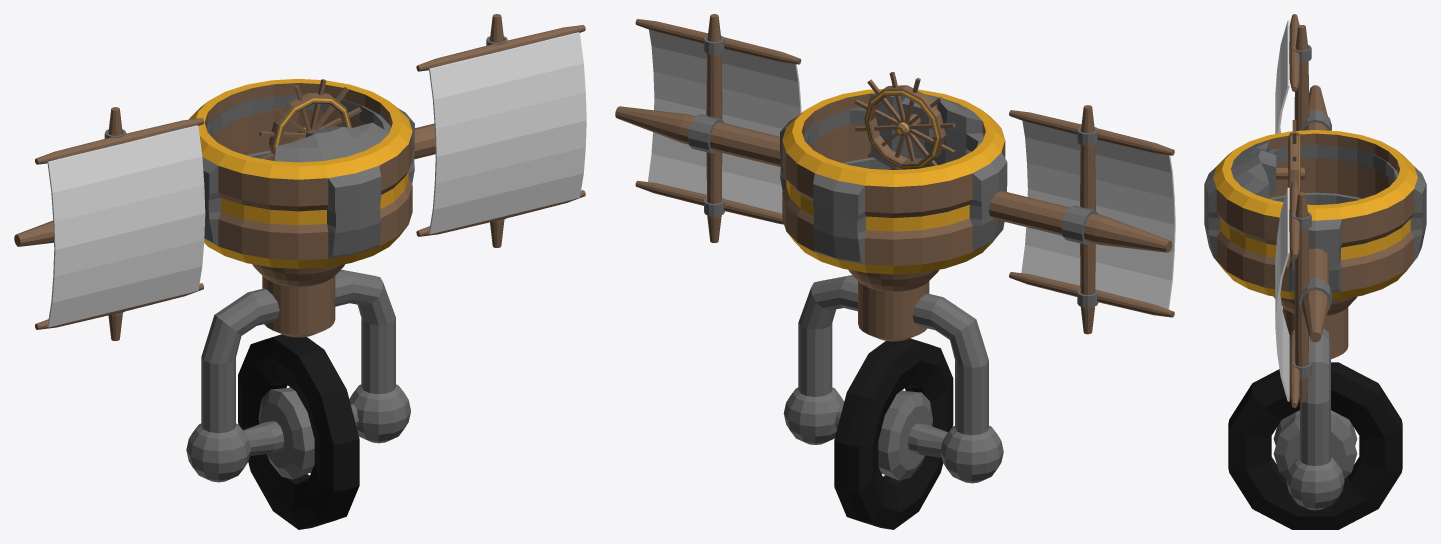
File: Old Wheeley.fbx
The picture shows the model from 3 angles, left to right: view 1: azimuth 30°, elevation 25°; view 2: azimuth 150°, elevation 25°; view 3: azimuth 270°, elevation 25°; orthographic projection. The views are drawn at different scales.
Parts seen in each view (by area): view 1: Carrier, Sail_Left, Sail_Right, WheelFrame, Wheel, SteeringWheel, SailBrace_RightTop, SailBrace_LeftTop, SailBeam_RightHorizontal, SailBeam_RightVertical, SailBeam_LeftVertical, SailBeam_LeftHorizontal; view 2: Carrier, WheelFrame, Sail_Right, Sail_Left, Wheel, SailBeam_RightHorizontal, SteeringWheel, SailBeam_LeftHorizontal, SailBeam_RightVertical, SailBeam_LeftVertical, SailBrace_LeftTop, SailBrace_RightTop (+2 smaller); view 3: Carrier, Wheel, WheelFrame, SailBeam_LeftVertical, Sail_Left, SailBeam_LeftHorizontal, Sail_Right, SailBeam_RightVertical, SteeringWheel, SailBrace_RightTop, SailBrace_LeftTop, SailBeam_RightHorizontal (+1 smaller).
Part boxes in pixels (left/top/right/bottom): Carrier: left=189, top=78, right=414, bottom=337; Sail_Left: left=429, top=32, right=586, bottom=234; Sail_Right: left=47, top=125, right=205, bottom=327; WheelFrame: left=186, top=269, right=410, bottom=482; Wheel: left=238, top=334, right=359, bottom=529; SteeringWheel: left=259, top=79, right=361, bottom=160; SailBrace_RightTop: left=35, top=118, right=204, bottom=164; SailBrace_LeftTop: left=416, top=25, right=585, bottom=71; SailBeam_RightHorizontal: left=14, top=220, right=53, bottom=246; SailBeam_RightVertical: left=108, top=107, right=122, bottom=340; SailBeam_LeftVertical: left=490, top=14, right=504, bottom=247; SailBeam_LeftHorizontal: left=414, top=123, right=435, bottom=159; Carrier: left=780, top=89, right=1007, bottom=341; WheelFrame: left=783, top=275, right=1003, bottom=483; Sail_Right: left=1021, top=121, right=1175, bottom=309; Sail_Left: left=648, top=29, right=801, bottom=213; Wheel: left=834, top=338, right=953, bottom=529; SailBeam_RightHorizontal: left=988, top=190, right=1172, bottom=252; SteeringWheel: left=854, top=72, right=955, bottom=169; SailBeam_LeftHorizontal: left=615, top=106, right=780, bottom=166; SailBeam_RightVertical: left=1080, top=105, right=1095, bottom=334; SailBeam_LeftVertical: left=706, top=14, right=722, bottom=243; SailBrace_LeftTop: left=635, top=19, right=801, bottom=64; SailBrace_RightTop: left=1009, top=110, right=1174, bottom=155; Carrier: left=1204, top=130, right=1426, bottom=359; Wheel: left=1228, top=362, right=1402, bottom=529; WheelFrame: left=1273, top=328, right=1357, bottom=510; SailBeam_LeftVertical: left=1294, top=192, right=1309, bottom=402; Sail_Left: left=1275, top=187, right=1289, bottom=401; SailBeam_LeftHorizontal: left=1299, top=248, right=1331, bottom=342; Sail_Right: left=1275, top=20, right=1289, bottom=133; SailBeam_RightVertical: left=1294, top=25, right=1309, bottom=130; SteeringWheel: left=1276, top=120, right=1304, bottom=192; SailBrace_RightTop: left=1289, top=14, right=1311, bottom=91; SailBrace_LeftTop: left=1289, top=181, right=1311, bottom=259; SailBeam_RightHorizontal: left=1300, top=85, right=1331, bottom=130.
Size of the model in its own units: 329 by 258 by 125.
